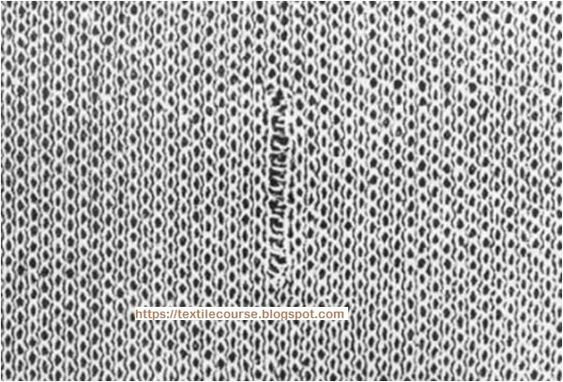Hole: (224, 42, 337, 304)
